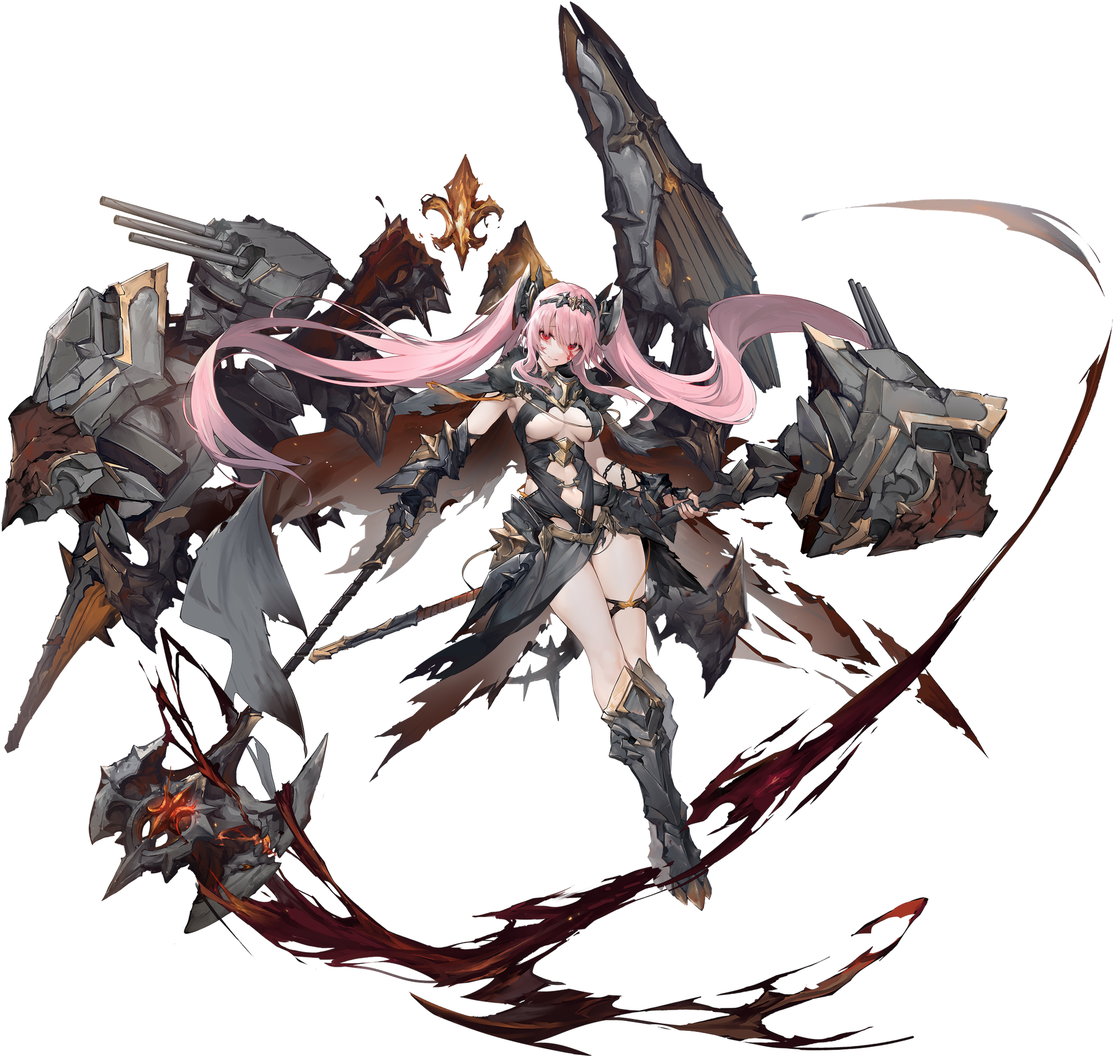person: (375, 248, 784, 935)
